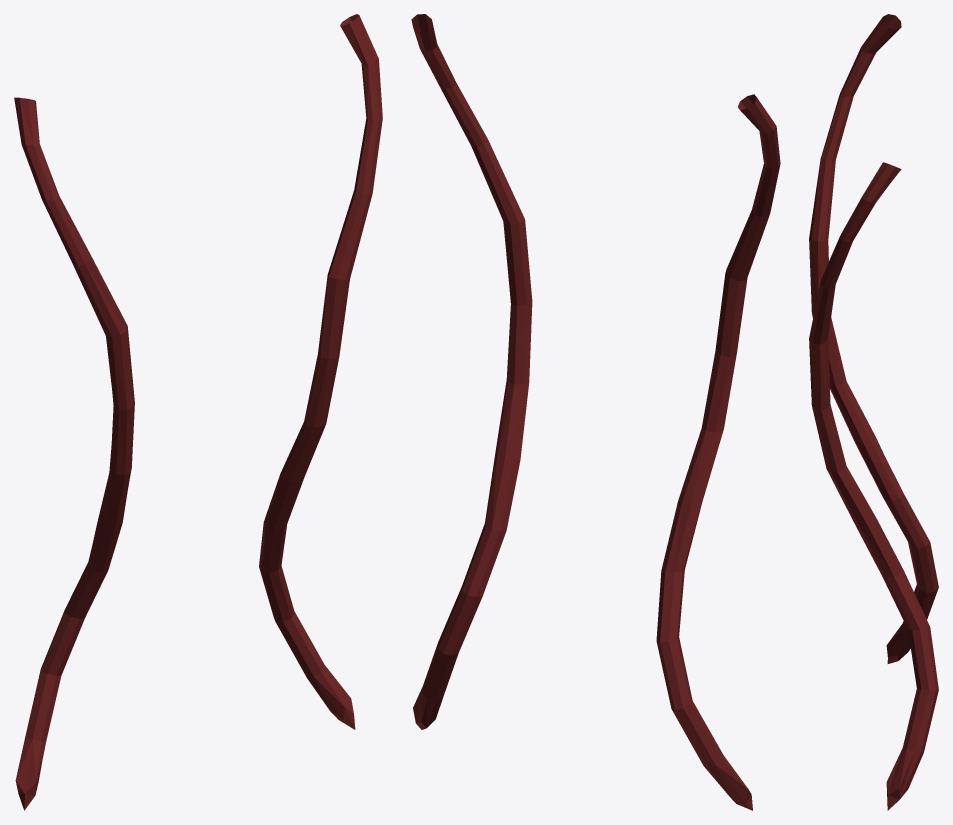
The model's file is Artéria Vertebral.FBX.
The picture shows the model from 3 angles, left to right: view 1: azimuth 30°, elevation 25°; view 2: azimuth 150°, elevation 25°; view 3: azimuth 270°, elevation 25°; orthographic projection. The views are drawn at different scales.
Parts seen in each view (by area): view 1: CS_Arterie; view 2: CS_Arterie; view 3: CS_Arterie.
Boxes of the visible parts, x1,y1,x2,y2 form: CS_Arterie: (14,14,382,810); CS_Arterie: (411,14,780,810); CS_Arterie: (809,14,938,810).
Bounding box in the file's own units: 225 × 434 × 78.72.
